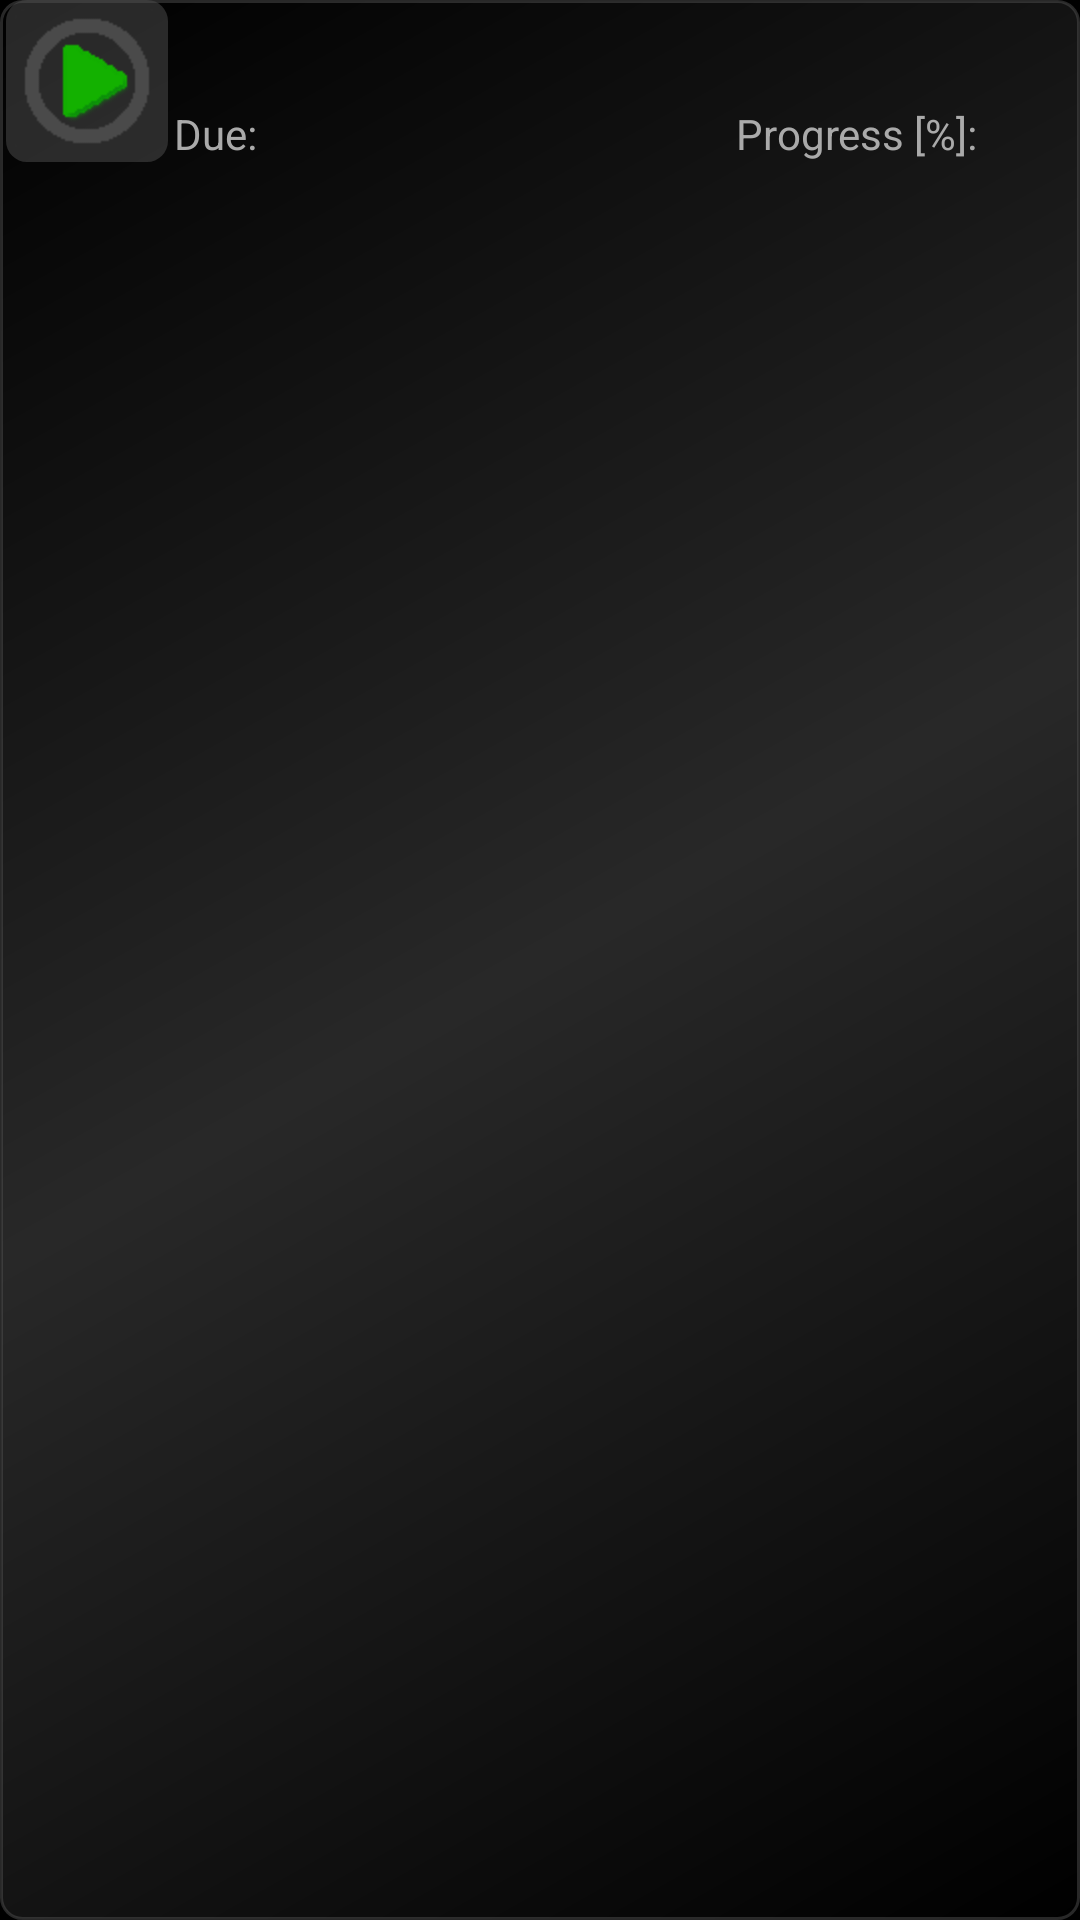

Where to tap for icons on this 1080px×1920px app screen, as [x,y]:
play: [87,81]
